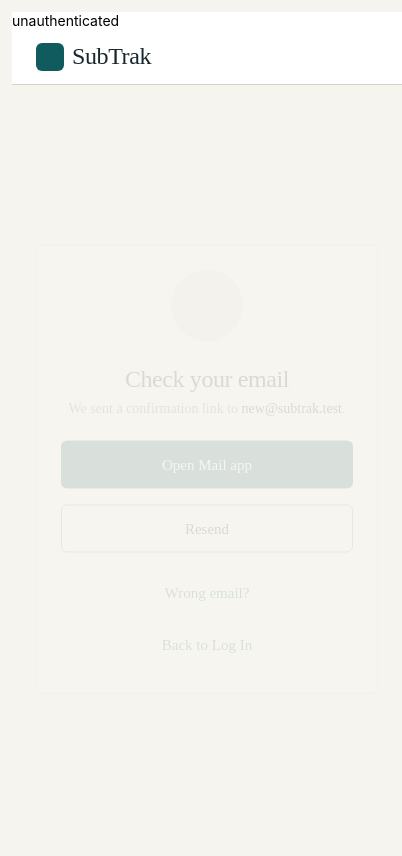
Test: Check your email (05 §4) › says so when no mail app opens
Expected: the text with test id "session-status" does not show "loading", 12,12 -> 119,29
Step 1. Click the button with test id "verify-open-mail" → (207,464), box 61,440 -> 353,488
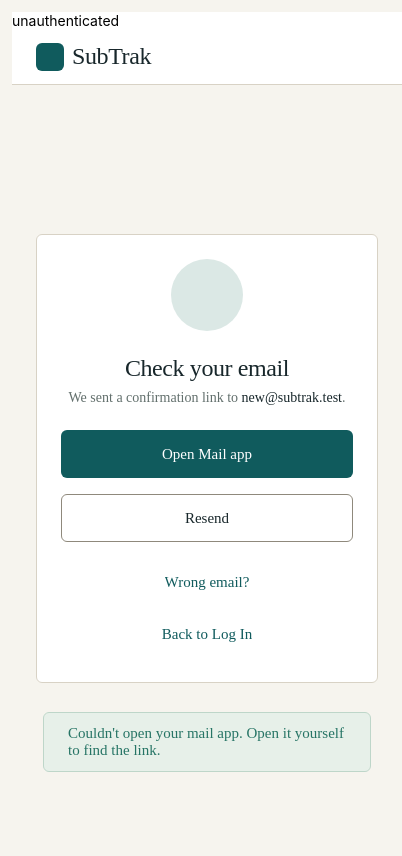
Result: the text "Couldn't open your mail app. Open it yourself to find the link." is shown at 68,725 -> 354,759
